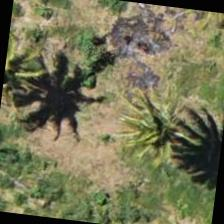Kelapa_Sawit: (104, 80, 204, 180), (0, 30, 70, 128)
